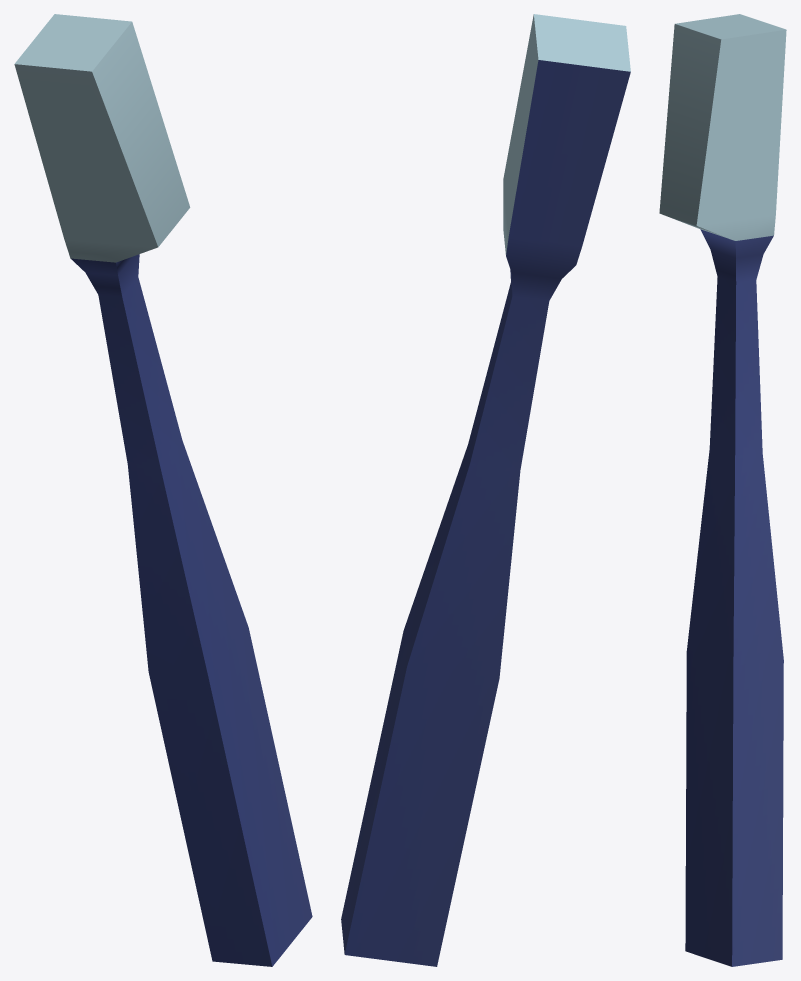
The model's file is Bathroom2_Toothbrush_2.fbx.
3 views of the same model, side by side, from view 1: azimuth 30°, elevation 25°; view 2: azimuth 150°, elevation 25°; view 3: azimuth 270°, elevation 25° (orthographic). The views are drawn at different scales.
Parts seen in each view (by area): view 1: Bathroom2_Toothbrush_2; view 2: Bathroom2_Toothbrush_2; view 3: Bathroom2_Toothbrush_2.
Boxes of the visible parts, bbox=[...] form: Bathroom2_Toothbrush_2: bbox=[14, 14, 312, 966]; Bathroom2_Toothbrush_2: bbox=[341, 14, 630, 966]; Bathroom2_Toothbrush_2: bbox=[659, 14, 786, 966].
Bounding box in the file's own units: 8.65 × 27.21 × 3.62.
